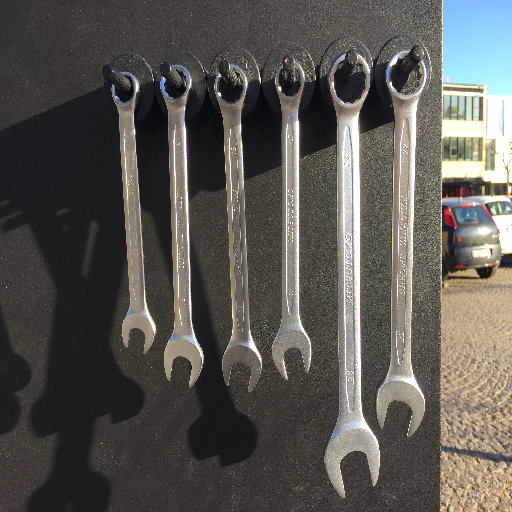bottom: (322, 424, 381, 500), (374, 376, 427, 442), (217, 338, 265, 395), (160, 335, 207, 389), (269, 328, 315, 382), (118, 309, 158, 355)
top: (325, 48, 374, 114), (382, 47, 429, 106), (211, 62, 251, 112), (157, 62, 197, 109), (272, 58, 308, 104), (107, 70, 145, 113)
